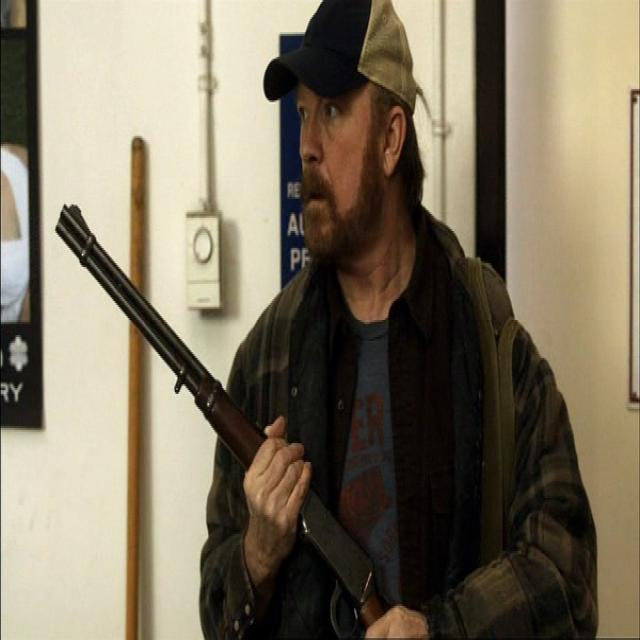rifle: (48, 193, 382, 628)
